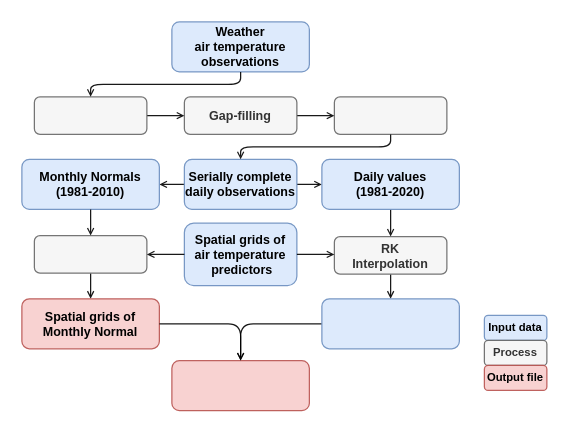
The diagram is 569 pixels wide and 433 high, and some of its shapes have lost their labels. Here are the shapes that lost their labels. From the top down, the box of each, then its label:
(33, 96, 147, 134): Quality Control
(333, 96, 447, 134): Homogenization
(33, 234, 147, 273): GWRK Interpolation
(321, 298, 459, 349): Spatial grids of Daily Anomalies
(171, 359, 309, 411): Grids of daily temperature PISCOt
